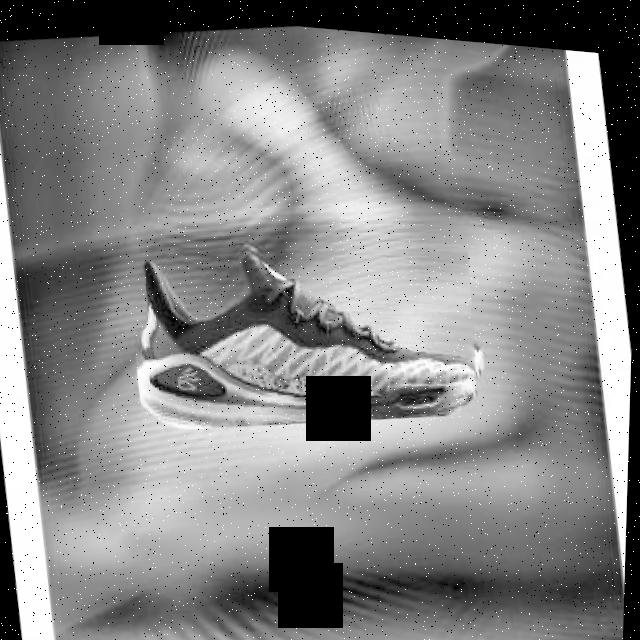shoe: (121, 199, 492, 452)
